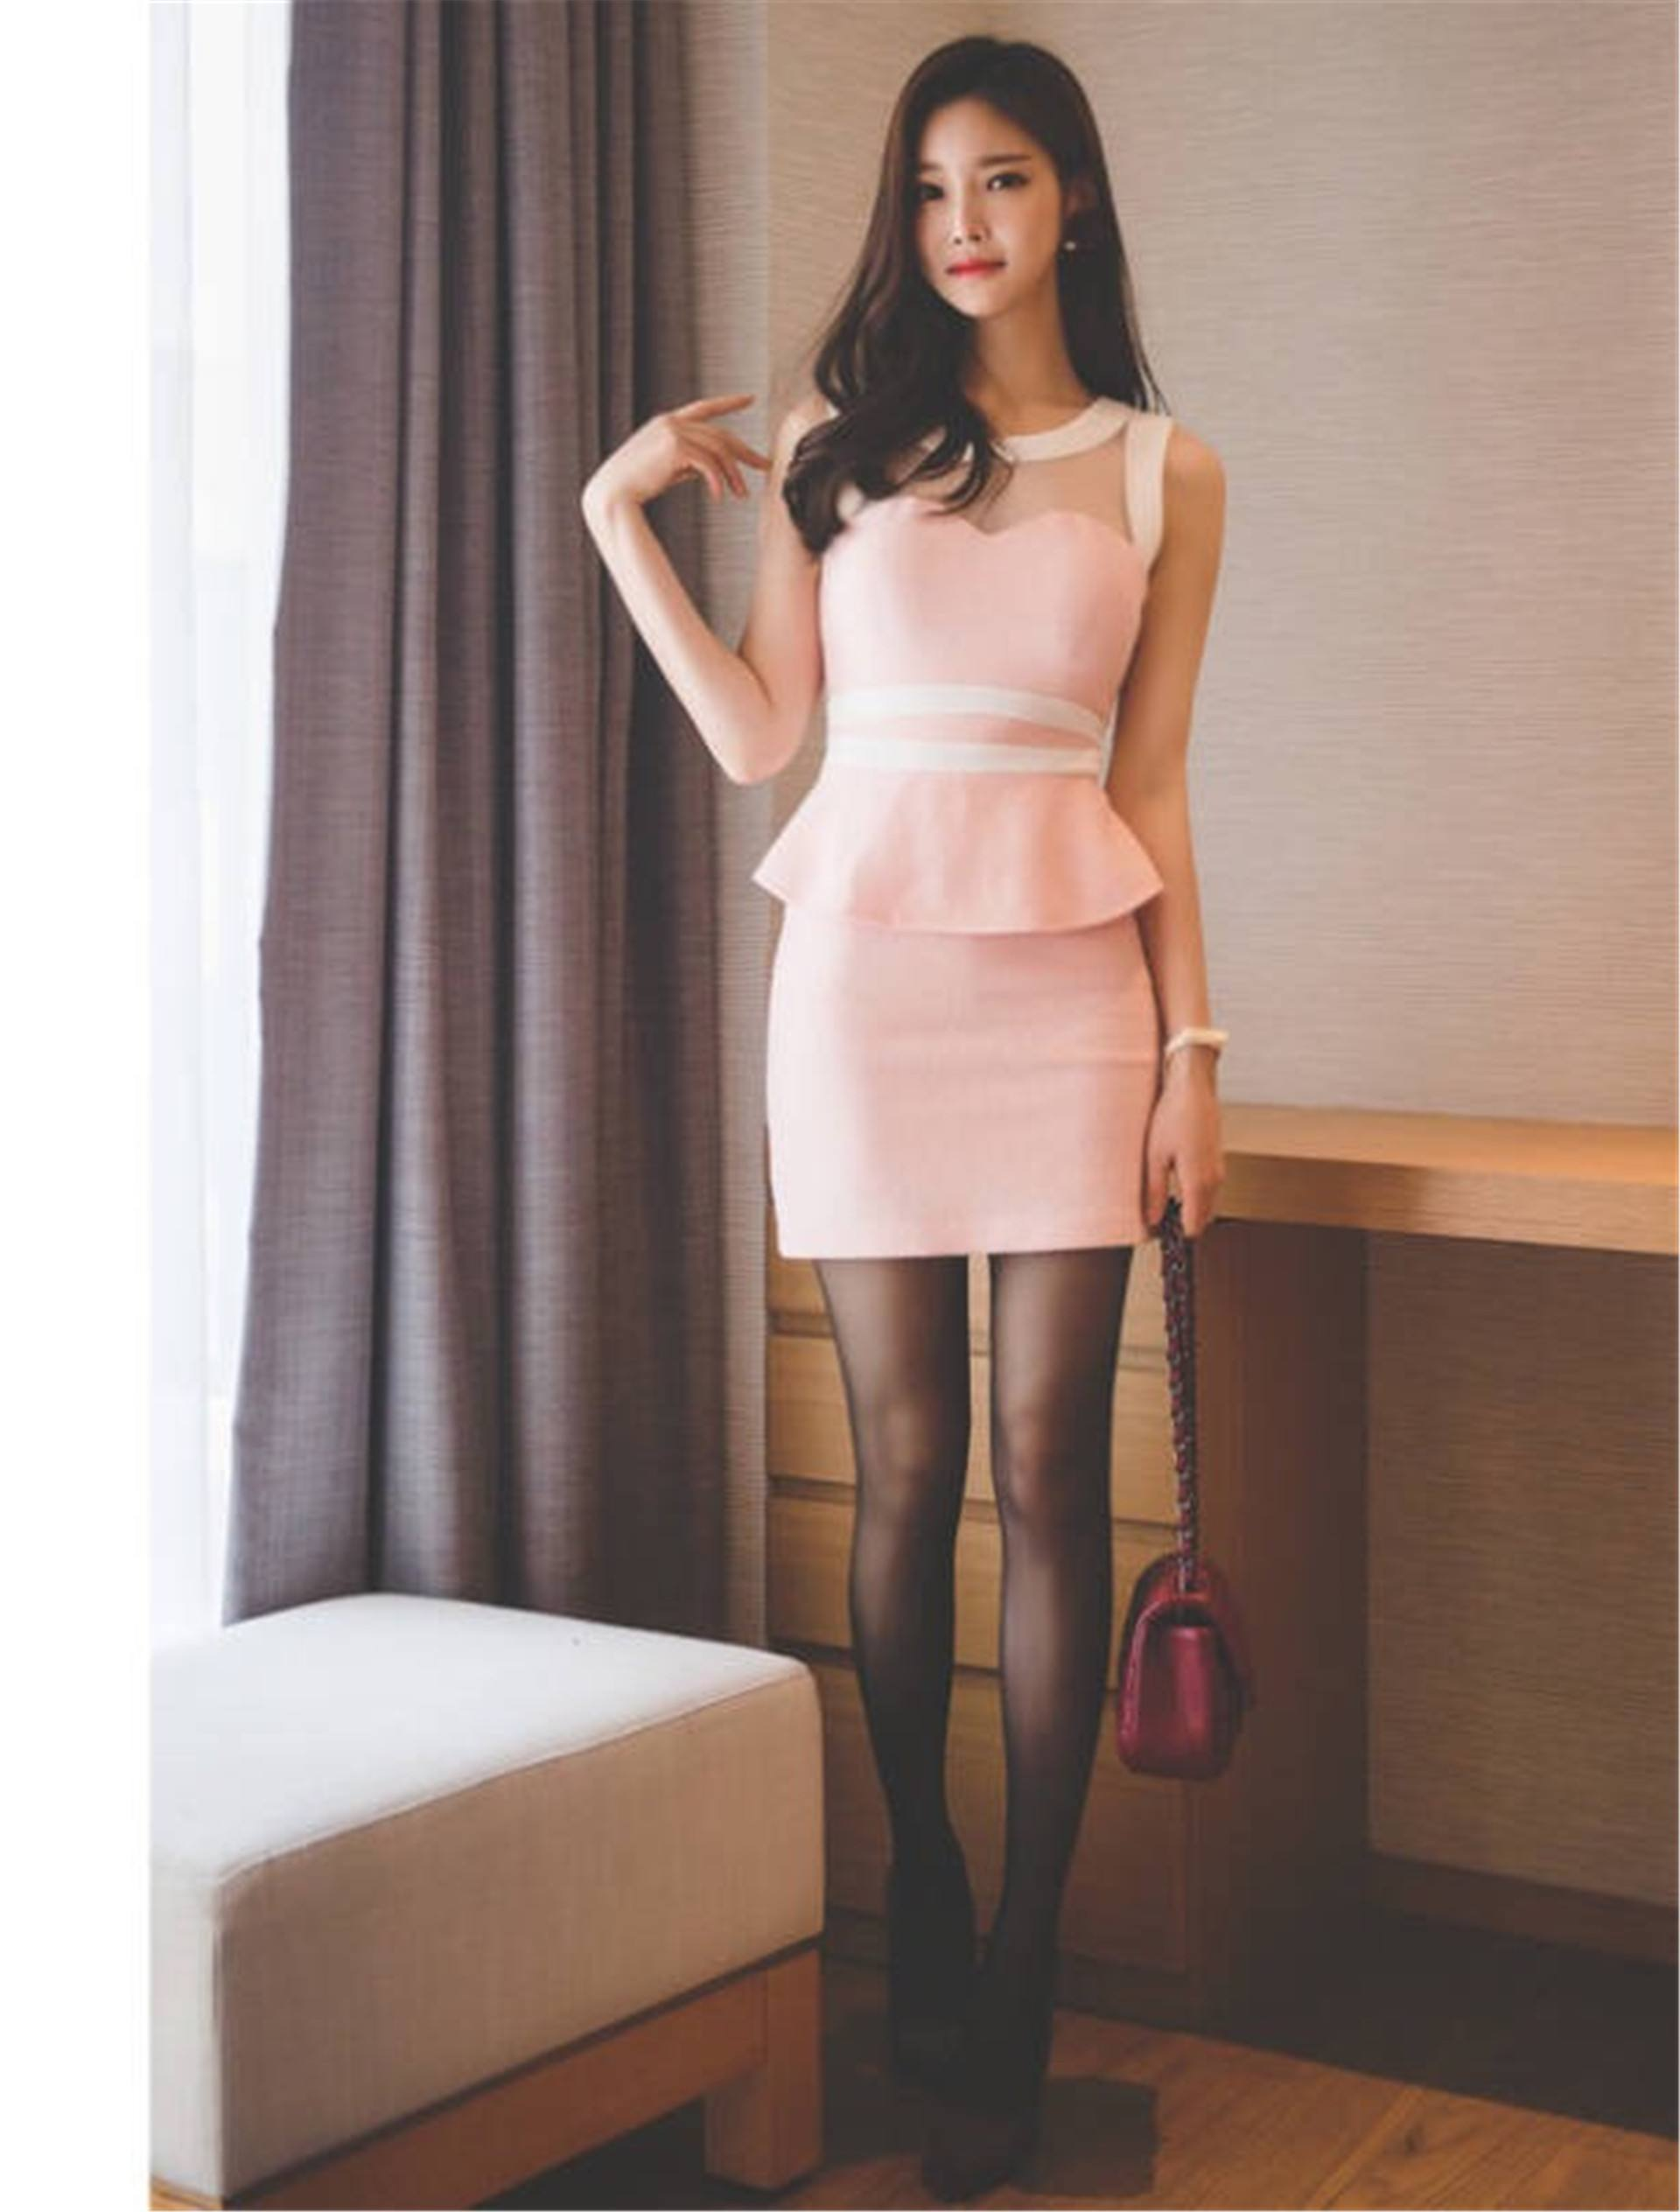person: (439, 52, 1238, 2115)
